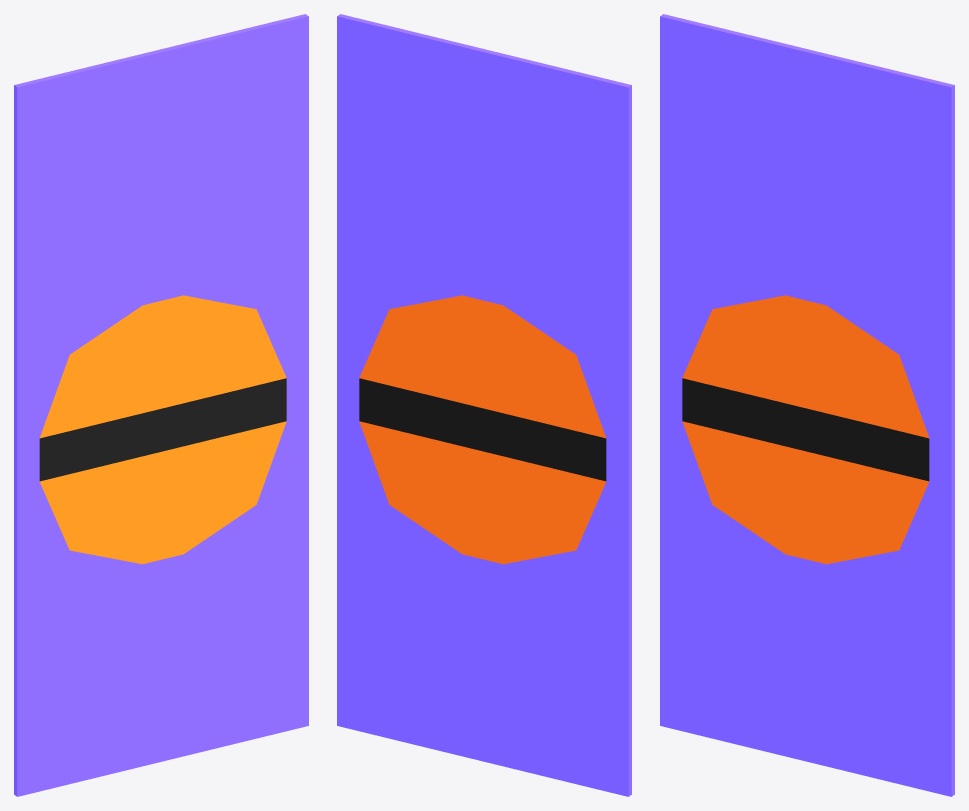
Rendered from scifi-scifi-projection-e.glb.
3 views of the same model, side by side, from view 1: azimuth 30°, elevation 25°; view 2: azimuth 150°, elevation 25°; view 3: azimuth 330°, elevation 25° (orthographic).
Parts seen in each view (by area): view 1: scifi-projection-e; view 2: scifi-projection-e; view 3: scifi-projection-e.
Part boxes in pixels (bbox=[...]): scifi-projection-e: bbox=[14, 14, 308, 796]; scifi-projection-e: bbox=[337, 14, 631, 796]; scifi-projection-e: bbox=[660, 14, 954, 796].
Size of the model in its own units: 2.55 by 5.92 by 0.05.
